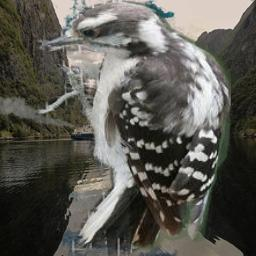Woodpecker: (35, 0, 231, 256)
